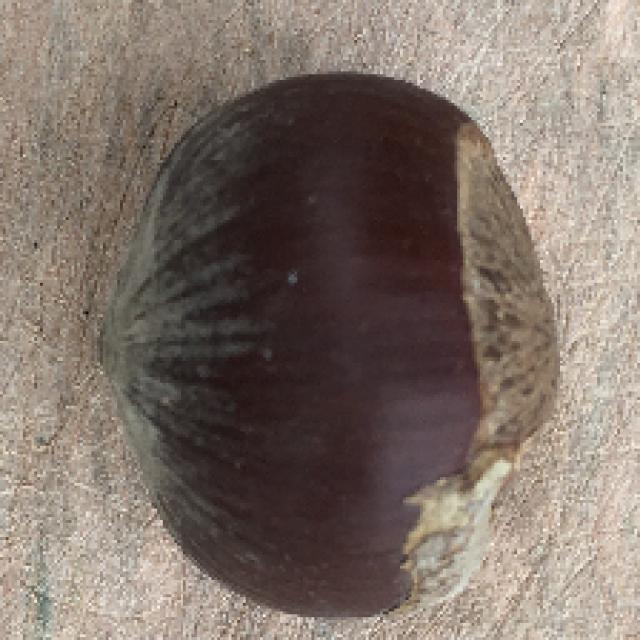damagedHazelnut: (101, 71, 562, 618)
